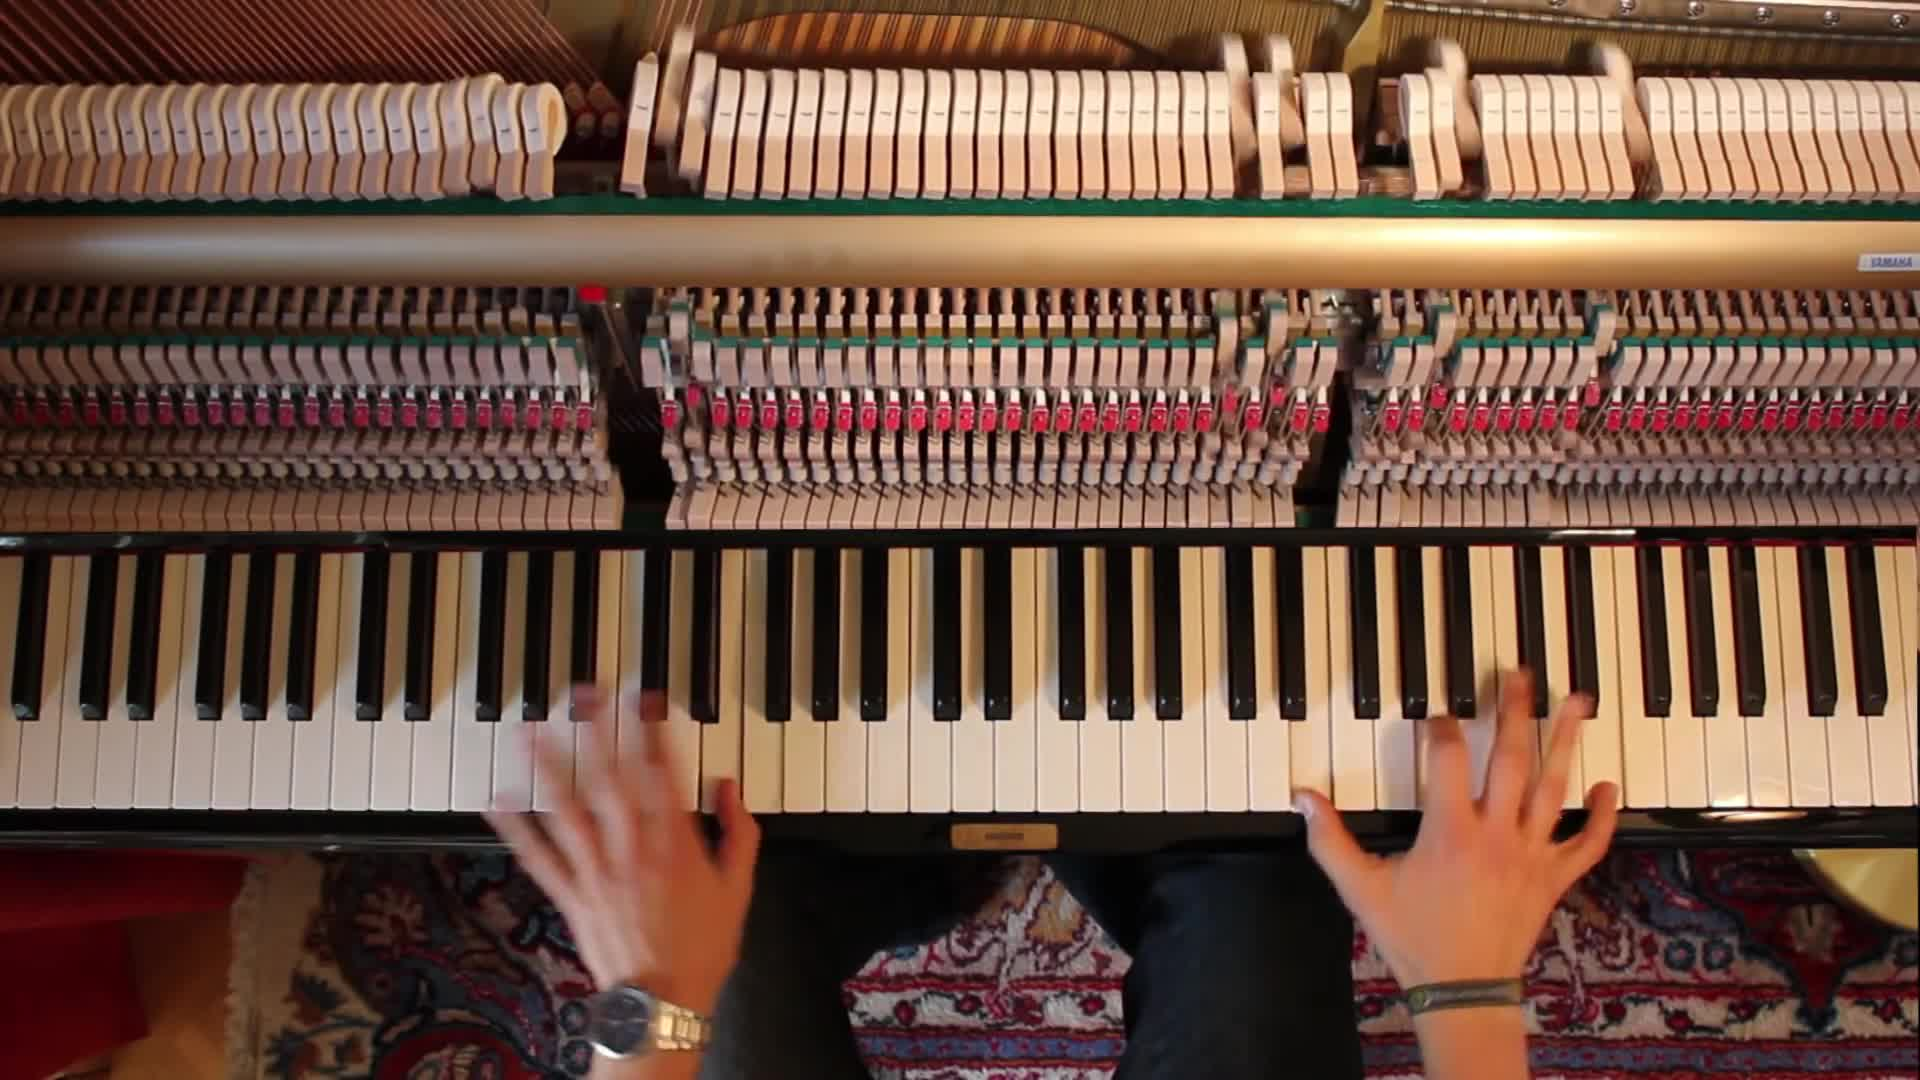left: (485, 682, 767, 1006)
right: (1298, 666, 1619, 967)
